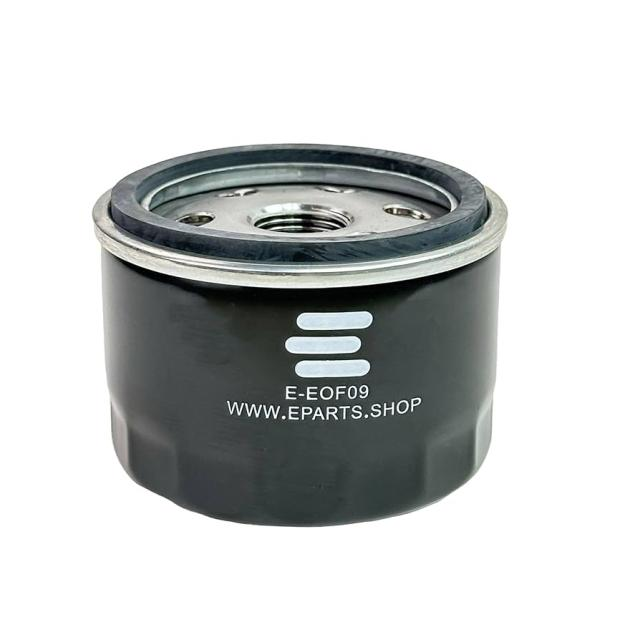oil_filter: (81, 136, 546, 534)
